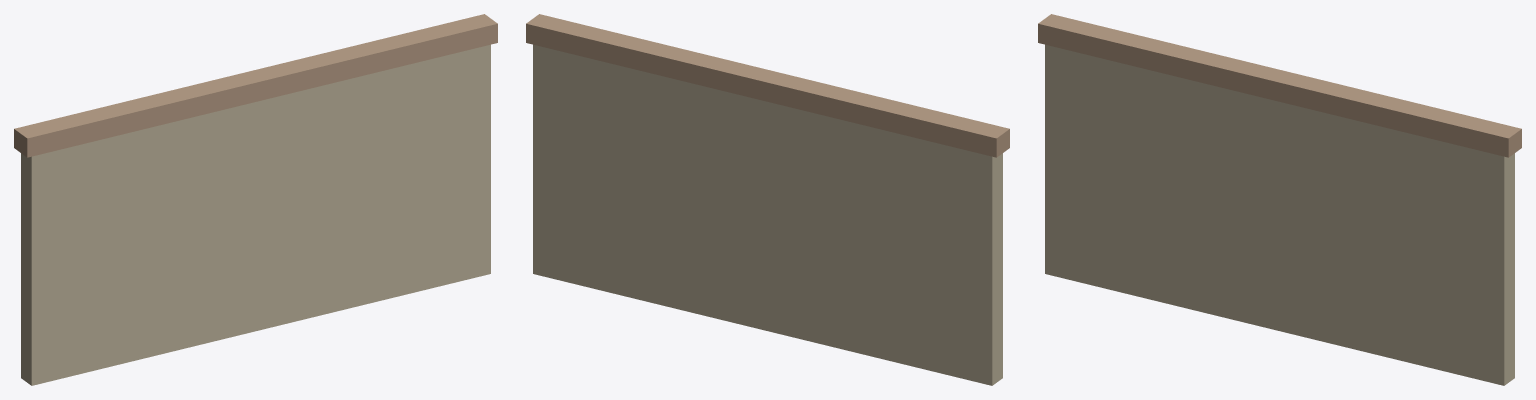
File: fence_panel.glb
3 views of the same model, side by side, from view 1: azimuth 30°, elevation 25°; view 2: azimuth 150°, elevation 25°; view 3: azimuth 330°, elevation 25° (orthographic).
Visible parts, largest first — view 1: p000, p008; view 2: p000, p008; view 3: p000, p008.
Boxes of the visible parts, x1,y1,x2,y2 form: p000: (21, 44, 490, 385); p008: (14, 14, 497, 157); p000: (533, 44, 1002, 385); p008: (526, 14, 1009, 157); p000: (1045, 44, 1514, 385); p008: (1038, 14, 1521, 157).
Bounding box in the file's own units: 2.05 × 1.04 × 0.1.
